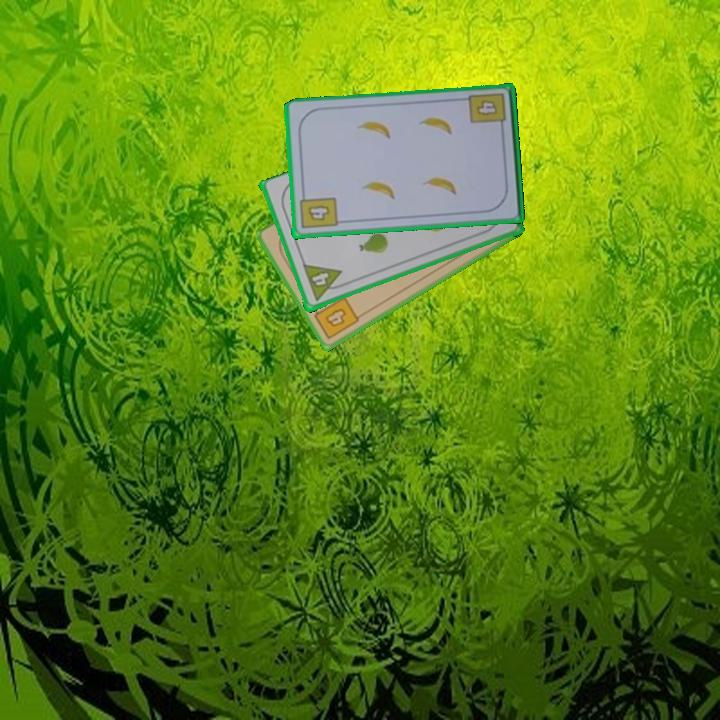4b: (309, 293, 362, 342), (296, 189, 339, 232), (472, 97, 500, 119)
4p: (300, 261, 348, 305)
